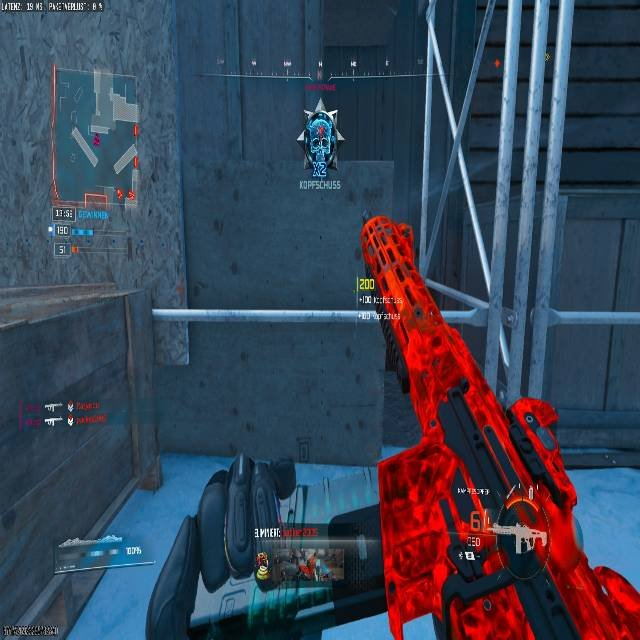head: (314, 97, 327, 112)
player: (301, 96, 339, 176), (306, 553, 317, 578)
